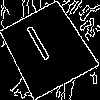I: (22, 24, 59, 70)
